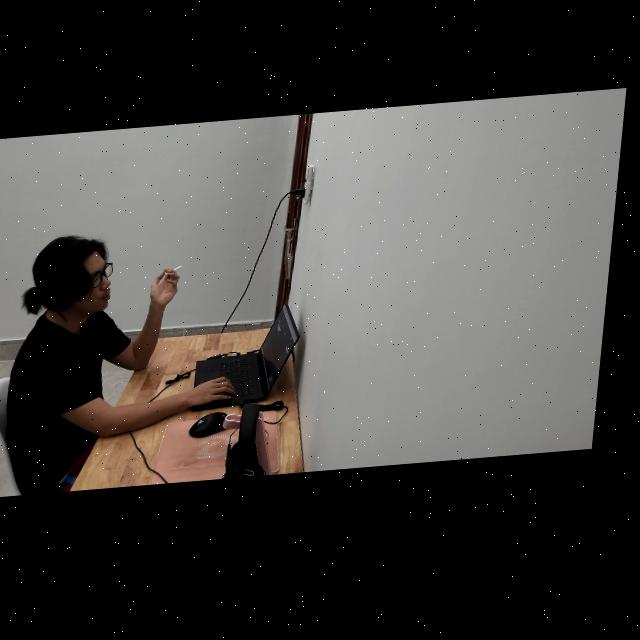cigarette: (169, 268, 188, 279)
